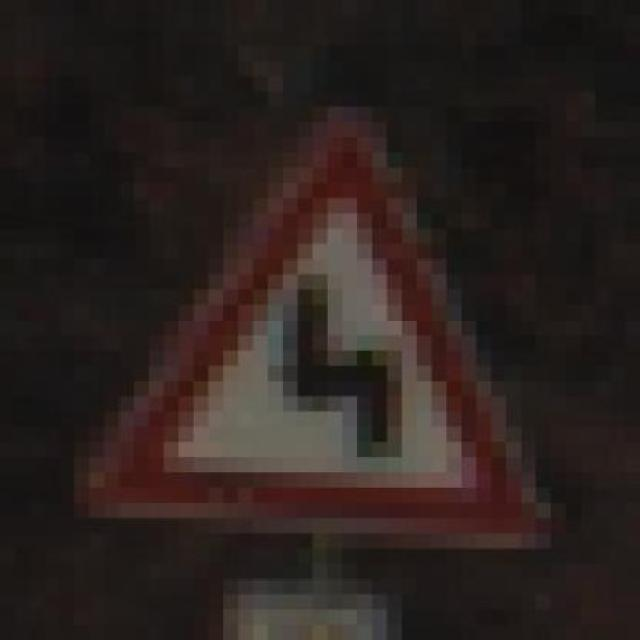Left Zig Zag Traffic: (45, 76, 580, 549)
